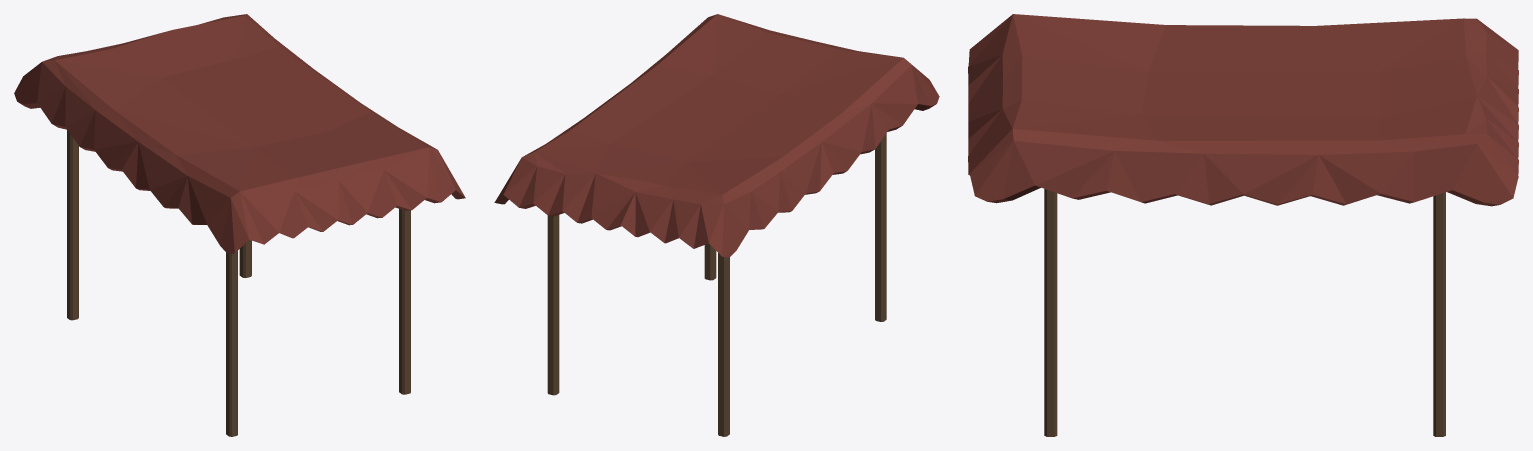
File: Mueble_Carpa.fbx
The picture shows the model from 3 angles, left to right: view 1: azimuth 30°, elevation 25°; view 2: azimuth 150°, elevation 25°; view 3: azimuth 270°, elevation 25°; orthographic projection. The views are drawn at different scales.
Visible parts, largest first — view 1: Carpa; view 2: Carpa; view 3: Carpa.
Boxes of the visible parts, x1,y1,x2,y2 form: Carpa: (14, 14, 465, 436); Carpa: (494, 14, 939, 436); Carpa: (968, 14, 1518, 436).
Bounding box in the file's own units: 194 × 200 × 320.
